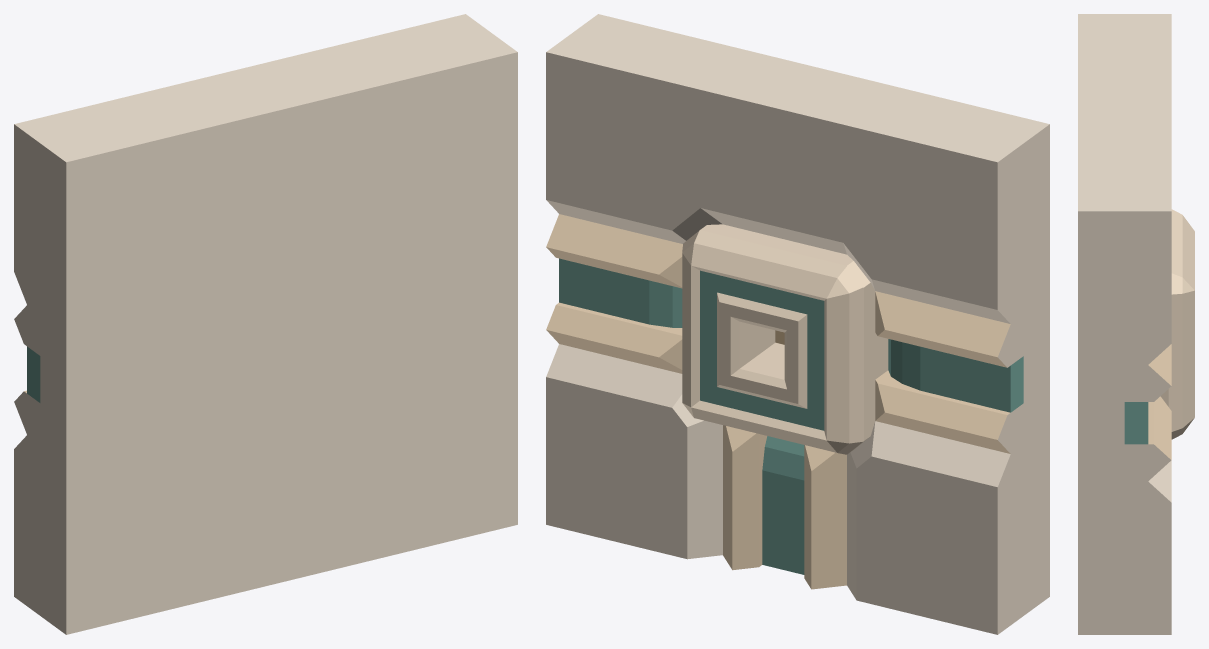
The model's file is Puzzle_Wall_Conduit_Keyhole_TJoint.glb.
3 views of the same model, side by side, from view 1: azimuth 30°, elevation 25°; view 2: azimuth 150°, elevation 25°; view 3: azimuth 270°, elevation 25° (orthographic). The views are drawn at different scales.
Visible parts, largest first — view 1: Puzzle_Wall_Conduit_Keyhole_TJoint; view 2: Puzzle_Wall_Conduit_Keyhole_TJoint; view 3: Puzzle_Wall_Conduit_Keyhole_TJoint.
Boxes of the visible parts, x1,y1,x2,y2 form: Puzzle_Wall_Conduit_Keyhole_TJoint: (14,14,517,634); Puzzle_Wall_Conduit_Keyhole_TJoint: (546,14,1049,634); Puzzle_Wall_Conduit_Keyhole_TJoint: (1078,14,1194,634).
Bounding box in the file's own units: 1 × 1 × 0.25.
